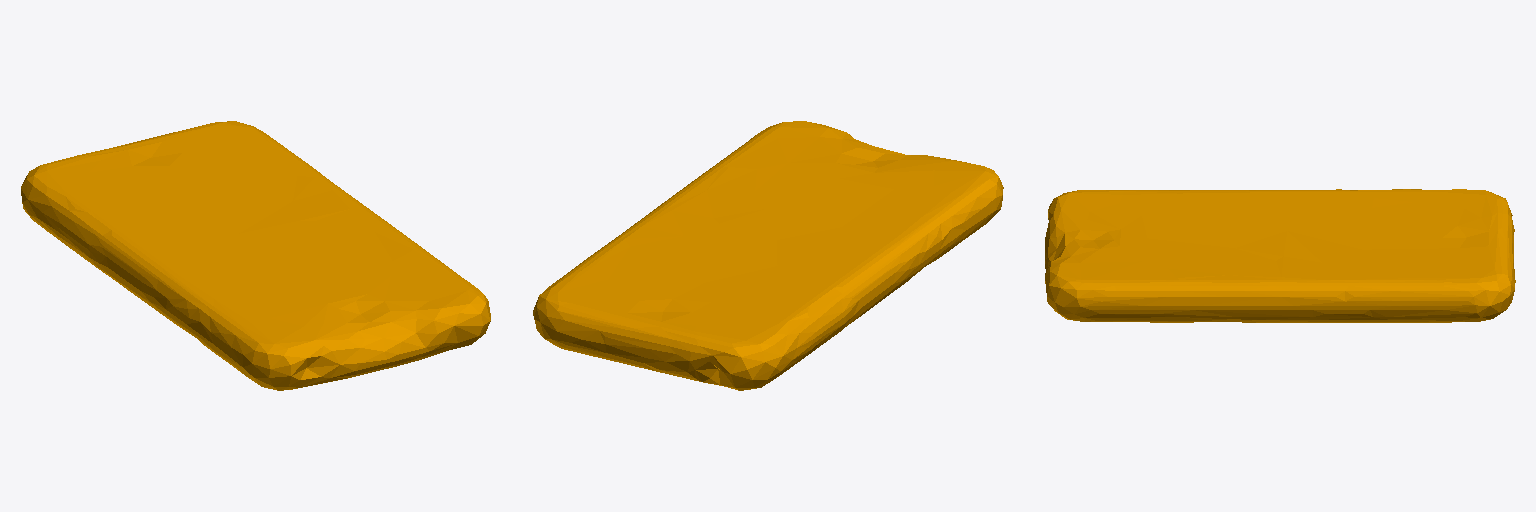
robot.urdf — cellphone_poisson_031:
<?xml version="1.0"?>
<robot name="cellphone_poisson_031">
  <link name="base_link">
    <contact>
      <lateral_friction value="1.0"/>
      <rolling_friction value="0.0"/>
      <contact_cfm value="0.0"/>
      <contact_erp value="1.0"/>
    </contact>
    <inertial>
      <mass value="0.0247096818893"/>
      <inertia ixx="1" ixy="0" ixz="0" iyy="1" iyz="0" izz="1"/>
    </inertial>
    <visual>
      <geometry>
        <mesh filename="cellphone_poisson_031_visual.obj"/>
      </geometry>
    </visual>
    <collision>
      <geometry>
        <mesh filename="cellphone_poisson_031_collision.obj"/>
      </geometry>
    </collision>
  </link>
</robot>

--- What the picture shows (computed from the rendered views, not written in the file) ---
The picture shows the robot from 3 angles, left to right: view 1: azimuth 30°, elevation 25°; view 2: azimuth 150°, elevation 25°; view 3: azimuth 270°, elevation 25°; orthographic projection.
Model cellphone_poisson_031 with 1 links and 0 joints (none), rooted at base_link, posed every joint at zero.
Links seen in each view (by area): view 1: base_link; view 2: base_link; view 3: base_link.
Boxes of the visible links, x1,y1,x2,y2 form: base_link: (21,121,490,390); base_link: (533,121,1003,390); base_link: (1045,189,1515,322).
Size in the robot's own frame: 0.0475 by 0.0897 by 0.0094 metres.
1 mesh visuals loaded from 1 distinct referenced files (1 OBJ).